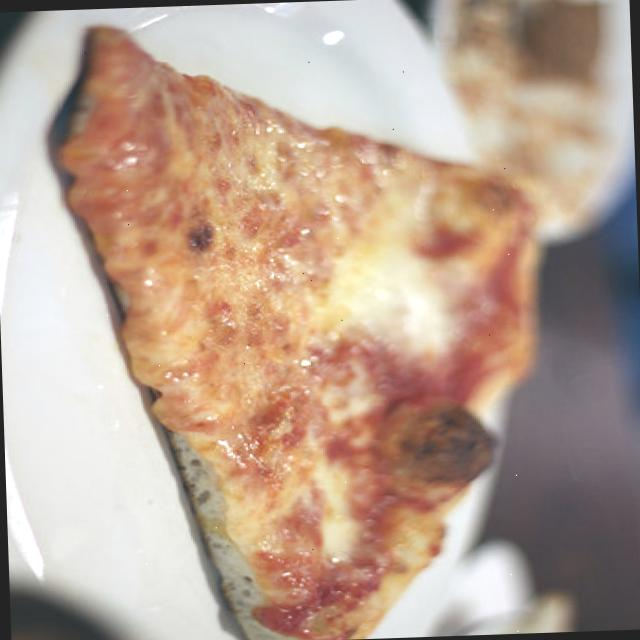pizza: (61, 28, 535, 640)
